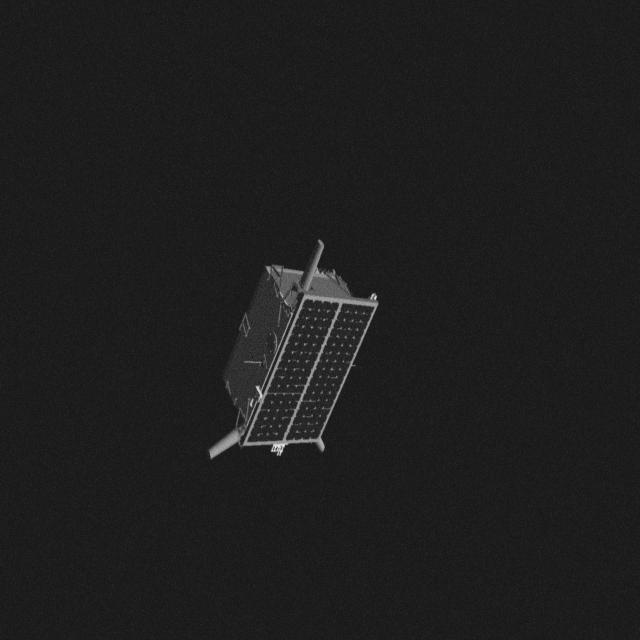satellite: (194, 244, 388, 466)
